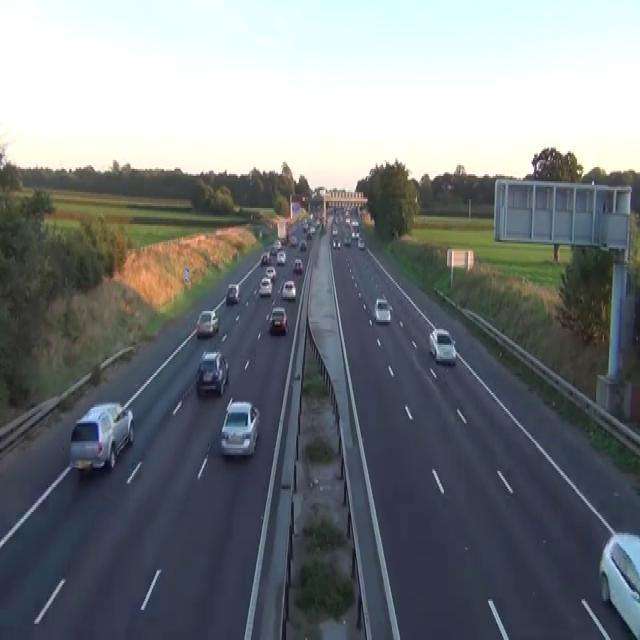Car: (69, 400, 134, 475), (598, 530, 639, 638), (219, 396, 260, 457), (195, 351, 228, 396), (331, 204, 361, 250), (428, 327, 456, 365), (196, 309, 219, 338), (269, 306, 288, 334), (374, 297, 391, 323), (281, 279, 296, 299), (226, 283, 239, 304), (258, 276, 272, 295), (265, 265, 276, 283), (292, 258, 303, 274), (276, 249, 286, 265), (260, 251, 269, 265), (343, 231, 351, 245), (357, 236, 365, 249), (351, 226, 359, 238), (332, 238, 340, 249), (299, 240, 306, 251), (308, 224, 315, 235), (290, 235, 297, 245), (331, 226, 338, 236), (306, 229, 312, 240), (274, 240, 281, 249), (314, 219, 320, 229), (270, 246, 277, 254), (344, 217, 350, 226), (258, 228, 262, 238)
Truck: (277, 218, 289, 244)
